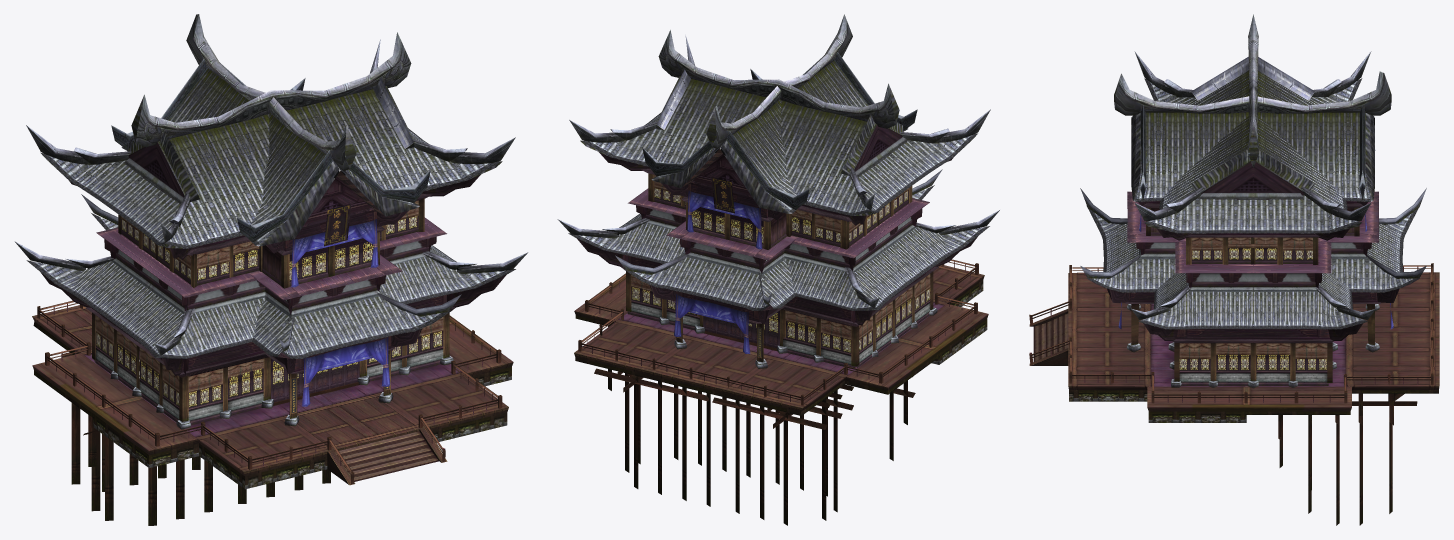
The model's file is xcz_jz_01_LOD1.FBX.
The picture shows the model from 3 angles, left to right: view 1: azimuth 30°, elevation 25°; view 2: azimuth 150°, elevation 25°; view 3: azimuth 270°, elevation 25°; orthographic projection. The views are drawn at different scales.
Visible parts, largest first — view 1: xcz_jz_01_LOD1; view 2: xcz_jz_01_LOD1; view 3: xcz_jz_01_LOD1.
Part boxes in pixels (box(x1,y1,x2,y2)): xcz_jz_01_LOD1: box(14, 14, 528, 525); xcz_jz_01_LOD1: box(557, 14, 999, 525); xcz_jz_01_LOD1: box(1029, 14, 1439, 525).
Bounding box in the file's own units: 3353 × 3981 × 3628.
